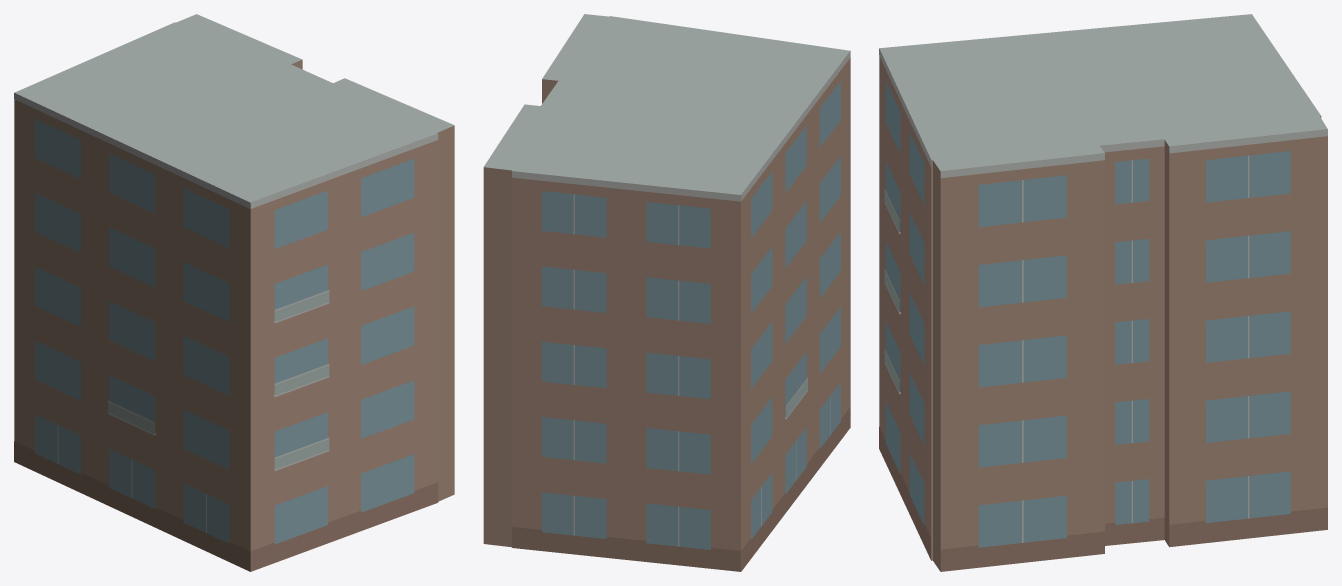
File: survey-upis-32651554.glb
3 views of the same model, side by side, from view 1: azimuth 30°, elevation 25°; view 2: azimuth 150°, elevation 25°; view 3: azimuth 270°, elevation 25° (orthographic). The views are drawn at different scales.
Visible parts, largest first — view 1: survey-upis-32651554.tmp; view 2: survey-upis-32651554.tmp; view 3: survey-upis-32651554.tmp.
Part boxes in pixels (box(x1,y1,x2,y2)): survey-upis-32651554.tmp: box(14, 14, 454, 571); survey-upis-32651554.tmp: box(483, 14, 850, 571); survey-upis-32651554.tmp: box(879, 14, 1327, 571).
Bounding box in the file's own units: 11.75 × 13.95 × 14.17.
